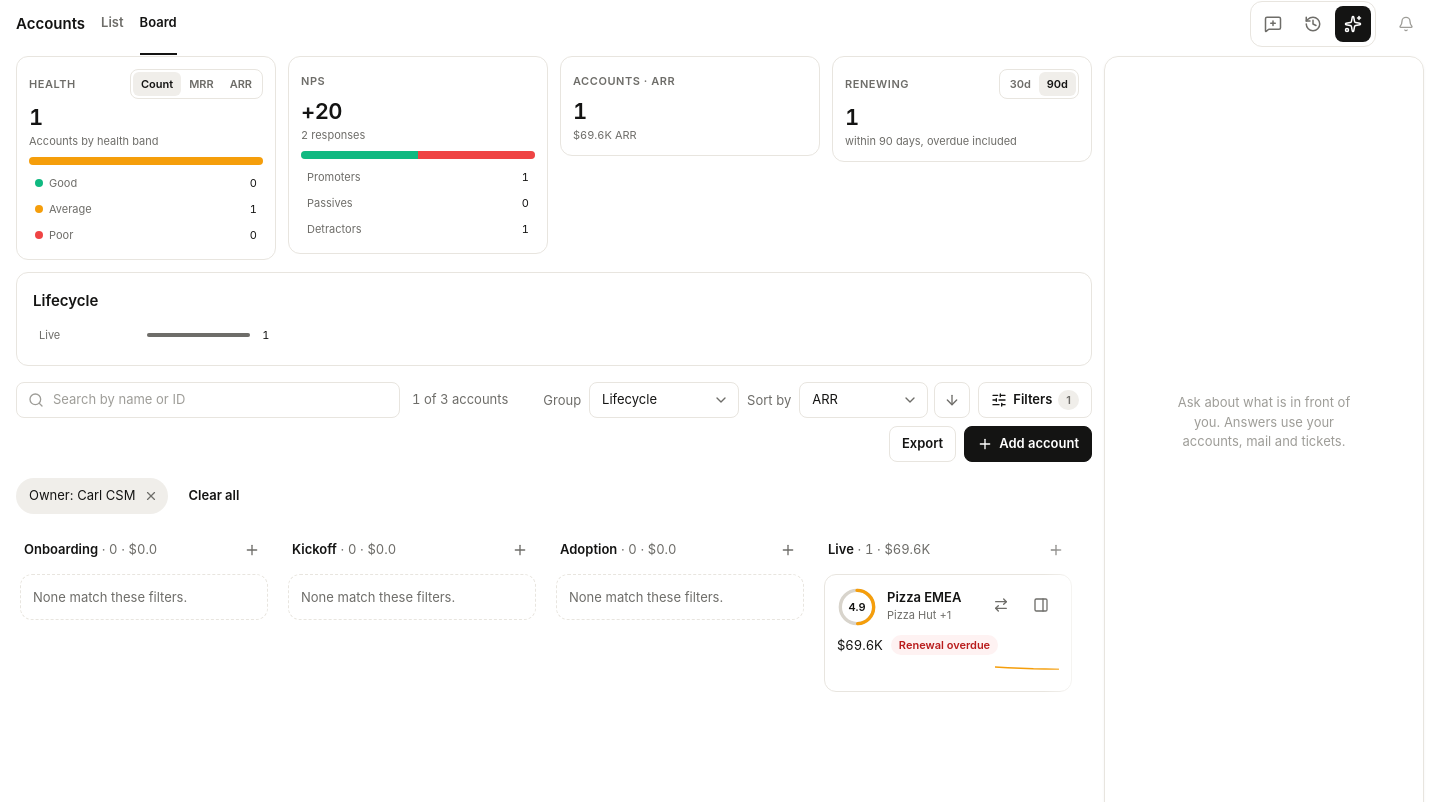
Scenario: Ask Revenact on the Accounts List and Board › is on the board too: opening a card narrows nothing, and the conversation survives the switch to the list
Click the button named "Open Pizza EMEA".
click(1041, 605)  # box [1023,587,1059,623]
(page scrolled)
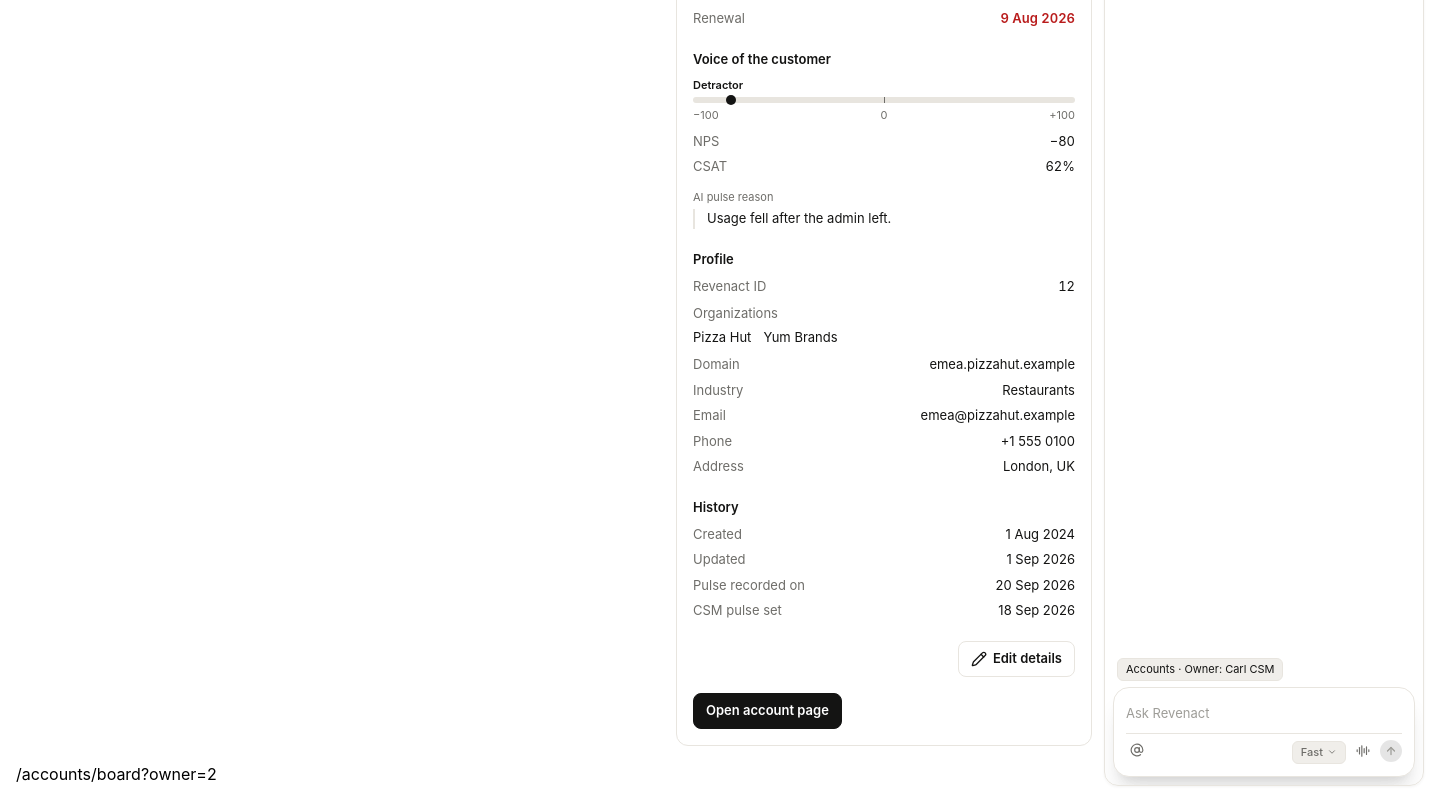
Expected: the text "Accounts · Owner: Carl CSM" is shown, [1117,658,1284,680]
Type "What renews soon?" into the field with placeholder "Ask Revenact".
click(1264, 713); type("What renews soon?")  # box [1126,702,1402,725]
Then press Enter
(page scrolled)
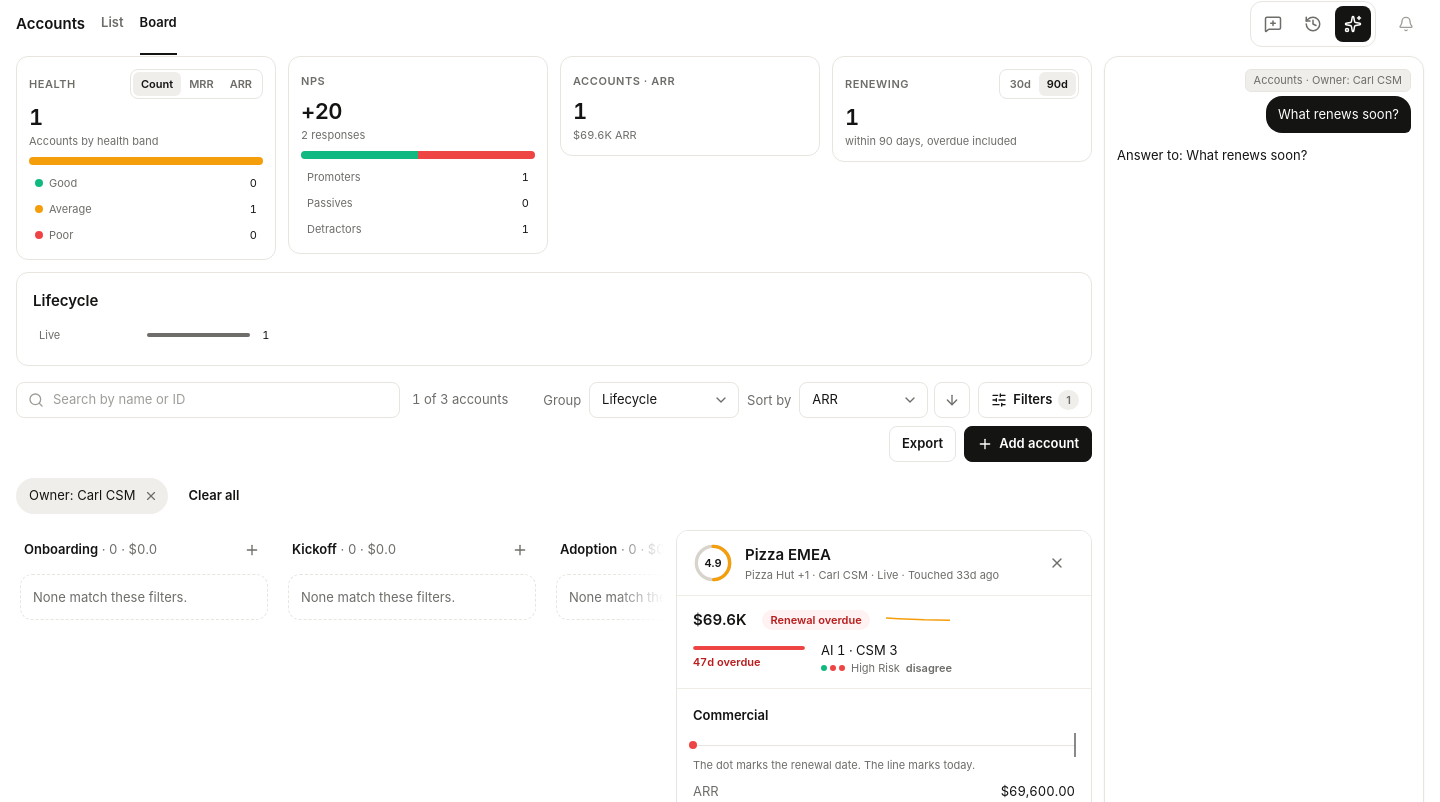
Now the text "Answer to: What renews soon?" is shown, box [1117,145,1307,166]
Click the link "List".
click(112, 22)  # box [101,14,124,30]
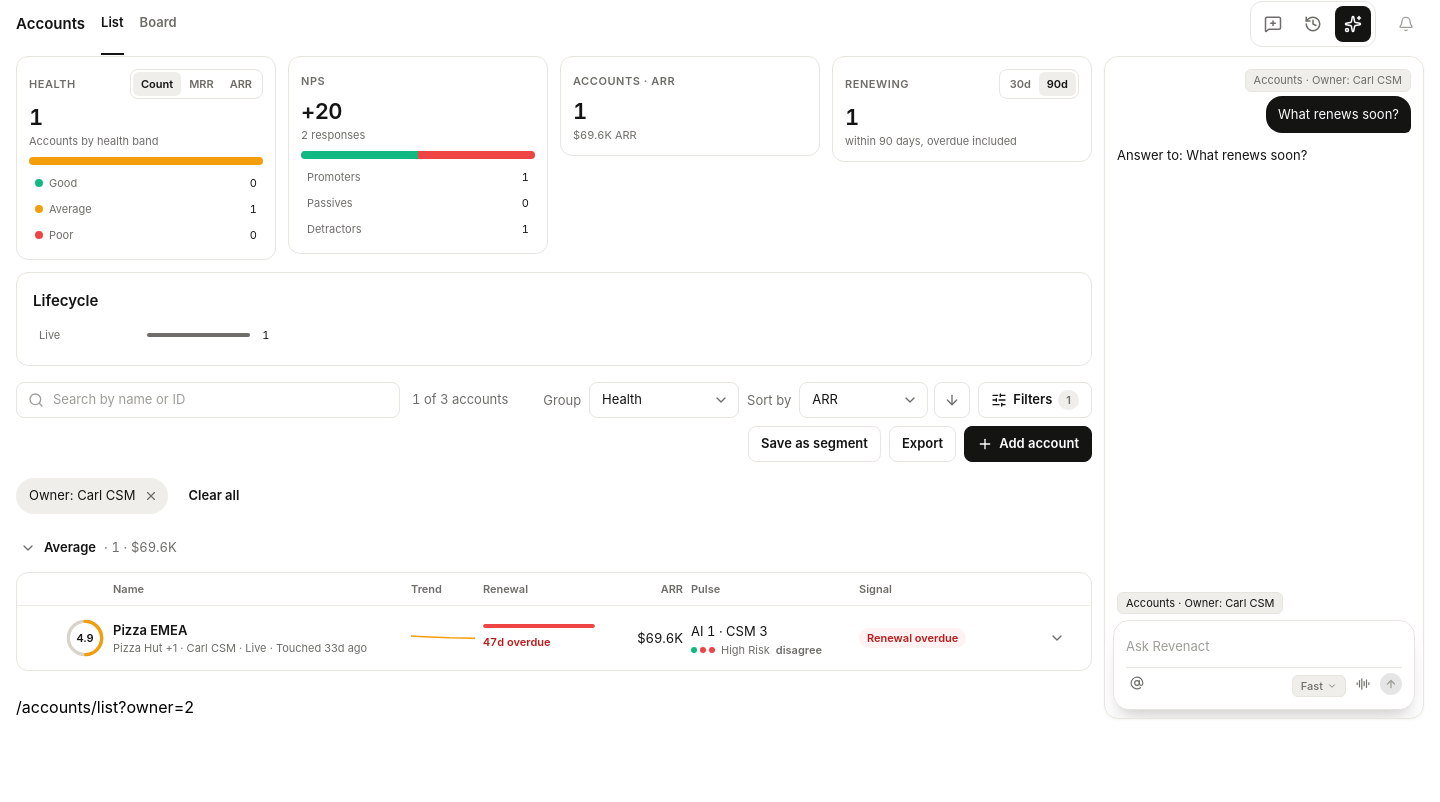
Expected: the link "Pizza EMEA" is shown, [113,620,187,640]
Now the text "Answer to: What renews soon?" is shown, box [1117,145,1307,166]
Type "And here?" into the field with placeholder "Ask Revenact".
click(1264, 647); type("And here?")  # box [1126,635,1402,658]
Then press Enter
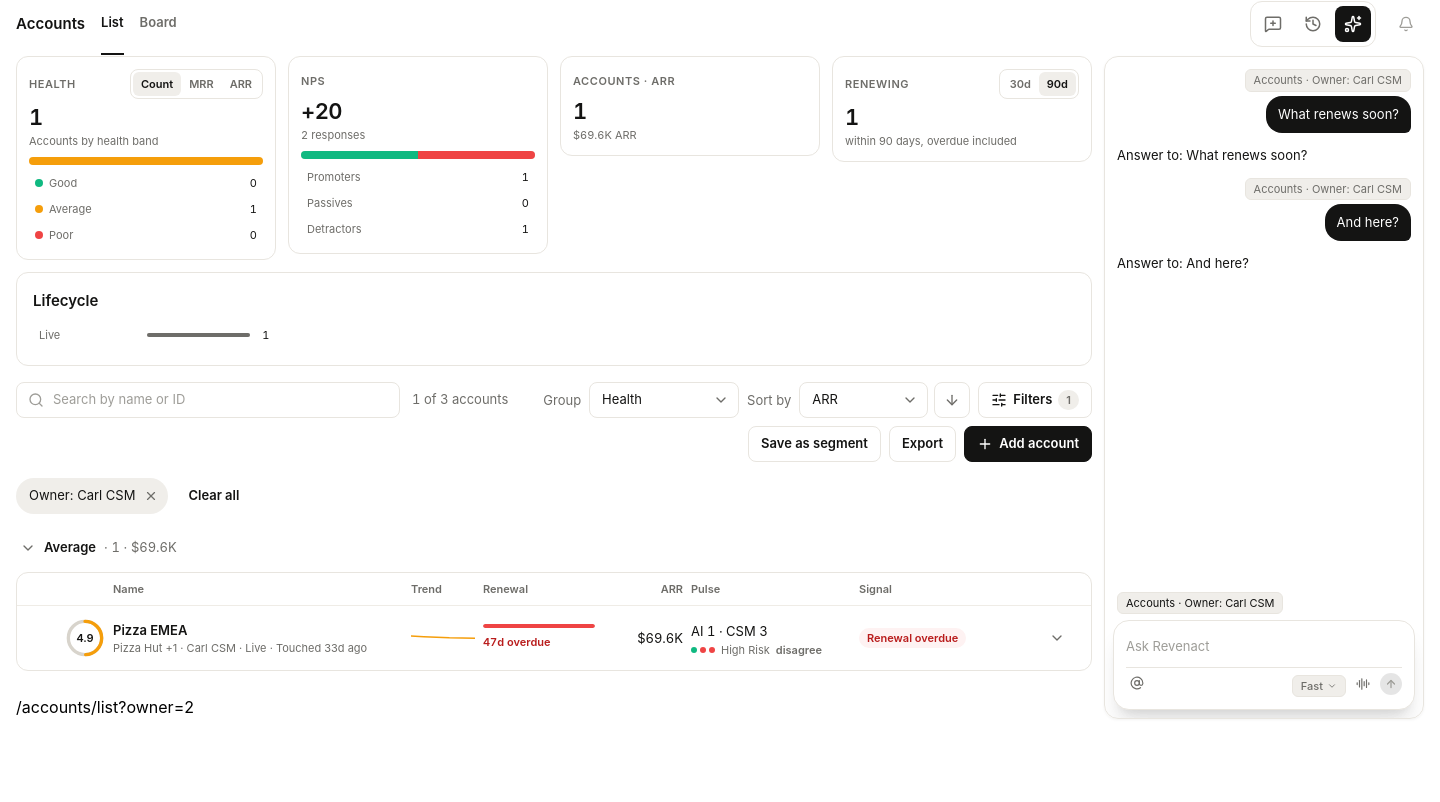
Now the text "Answer to: And here?" is shown, box [1117,253,1249,274]
